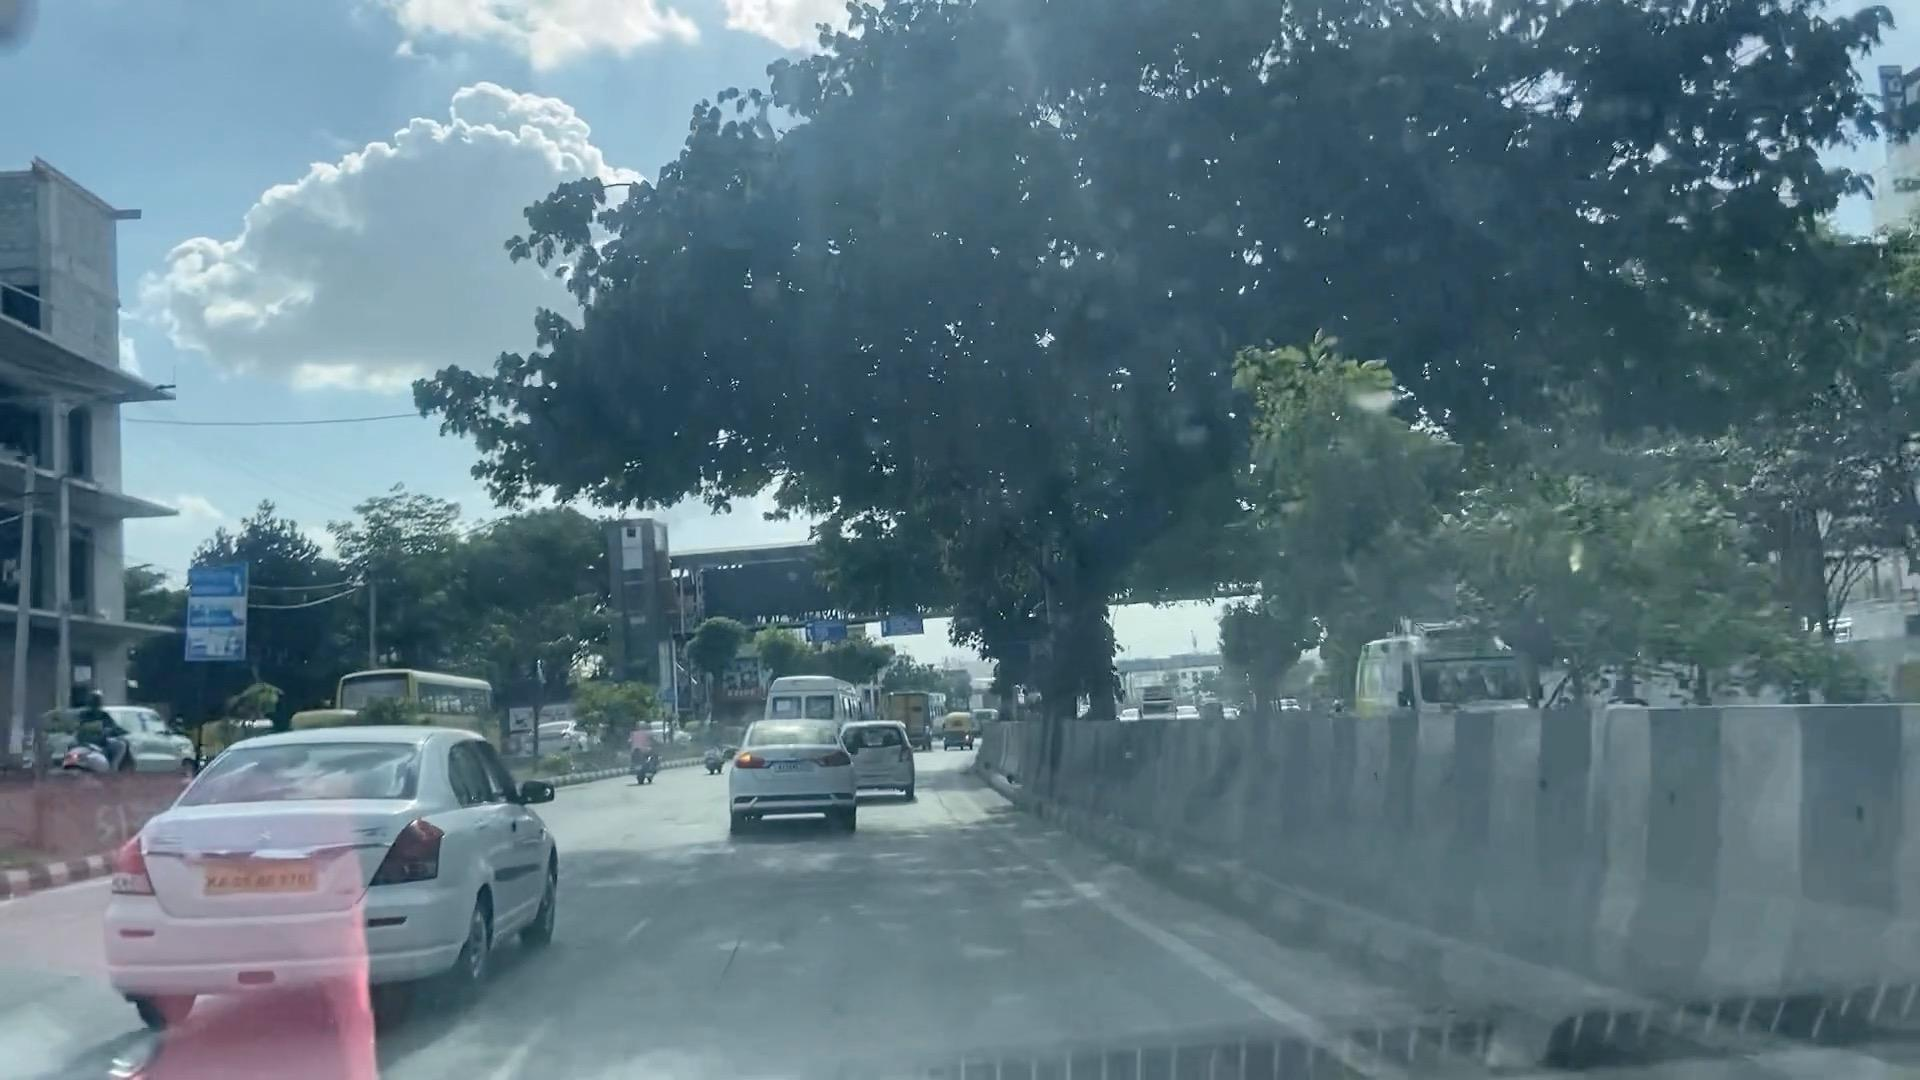LMV: (105, 773, 460, 1035), (731, 728, 857, 845)
